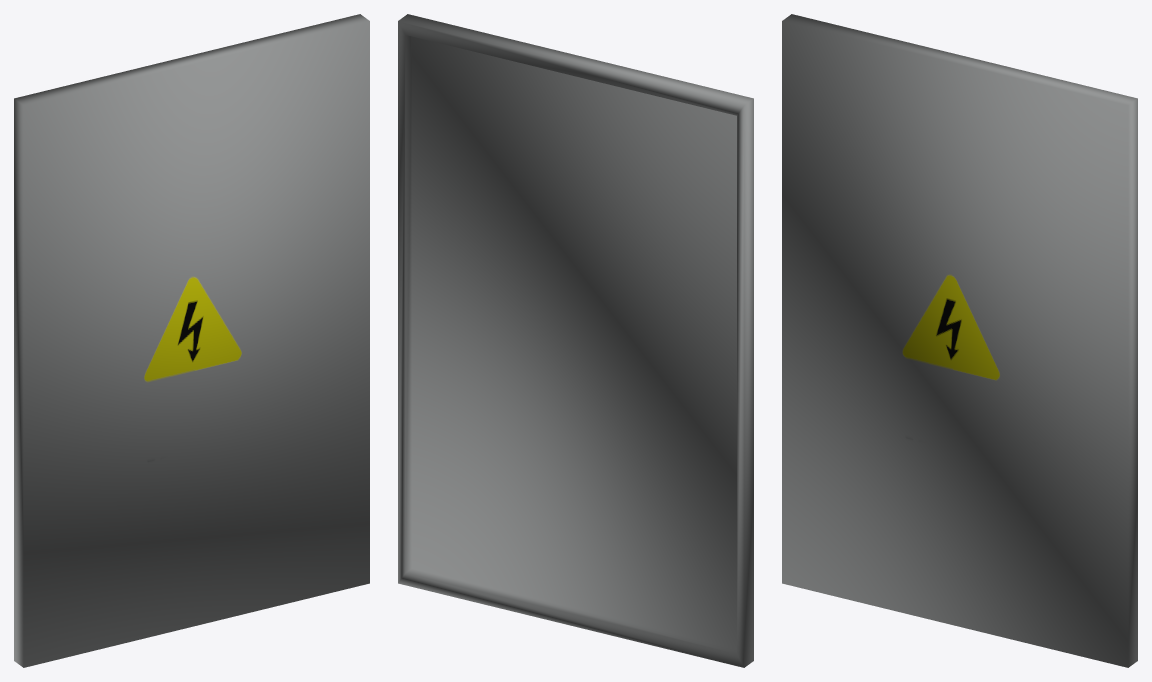
File: porta da caixa eletrica _final.fbx
3 views of the same model, side by side, from view 1: azimuth 30°, elevation 25°; view 2: azimuth 150°, elevation 25°; view 3: azimuth 330°, elevation 25° (orthographic).
Visible parts, largest first — view 1: porta caixa eletrica; view 2: porta caixa eletrica; view 3: porta caixa eletrica.
Boxes of the visible parts, x1=… form: porta caixa eletrica: x1=14, y1=14, x2=369, y2=667; porta caixa eletrica: x1=398, y1=14, x2=753, y2=667; porta caixa eletrica: x1=782, y1=14, x2=1137, y2=667.
Size of the model in its own units: 43.3 by 67.2 by 2.1.
Materials: 1 (1 with a texture image).
